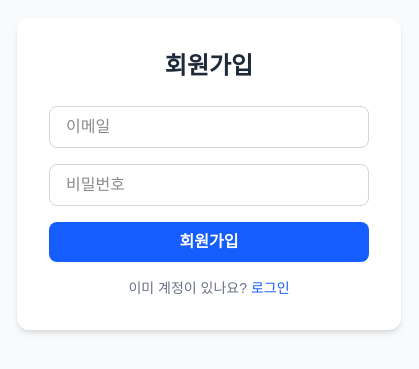
Scenario: SignupPage › 성공 시 성공 메시지가 표시된다
The image size is (419, 369).
Type "test@example.com" into the field with placeholder "이메일" at (209, 127), box [49,106,369,148]
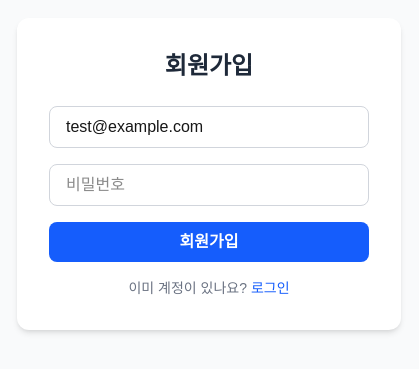
Type "password123" into the password field with placeholder "비밀번호" at (209, 185), box [49,164,369,206]
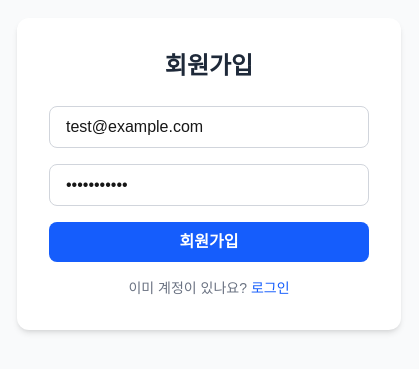
Click the button "회원가입" at (209, 242), box [49,222,369,262]
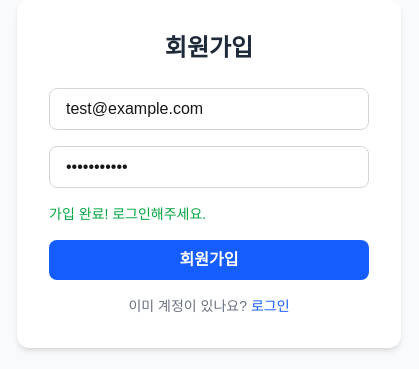
Check: the text "가입 완료! 로그인해주세요." is shown, box [49,206,206,222]
